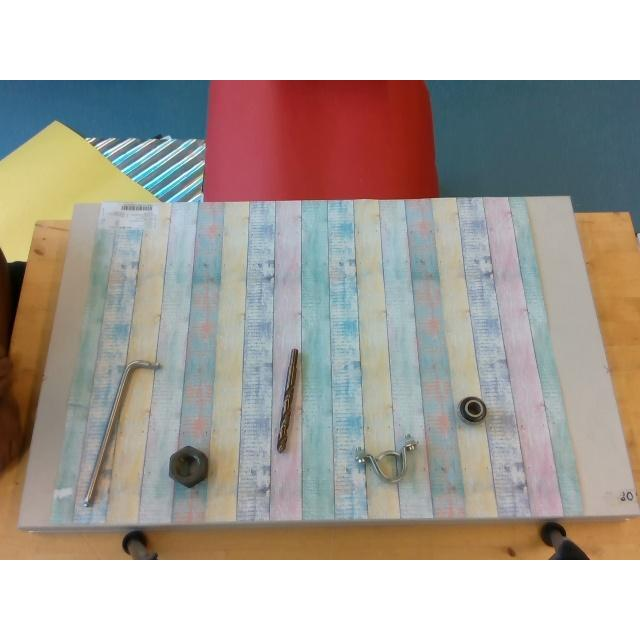AllenKey: (84, 358, 160, 506)
Bearing2: (458, 396, 486, 422)
Drill: (276, 348, 300, 452)
Housing: (355, 438, 417, 482)
M30: (169, 446, 207, 486)
